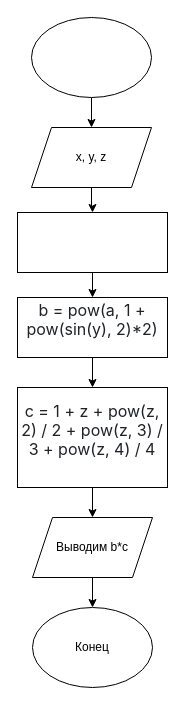
Image size: 185x705. Some labels were removed from this diagram. The shapes that lost their labels are listed below. From the top down, each one's centre as x and y in pixels, then its label:
At (x=91, y=57): "Начало".
At (x=92, y=242): "a = fabs(cos(x) - cos(y))".
